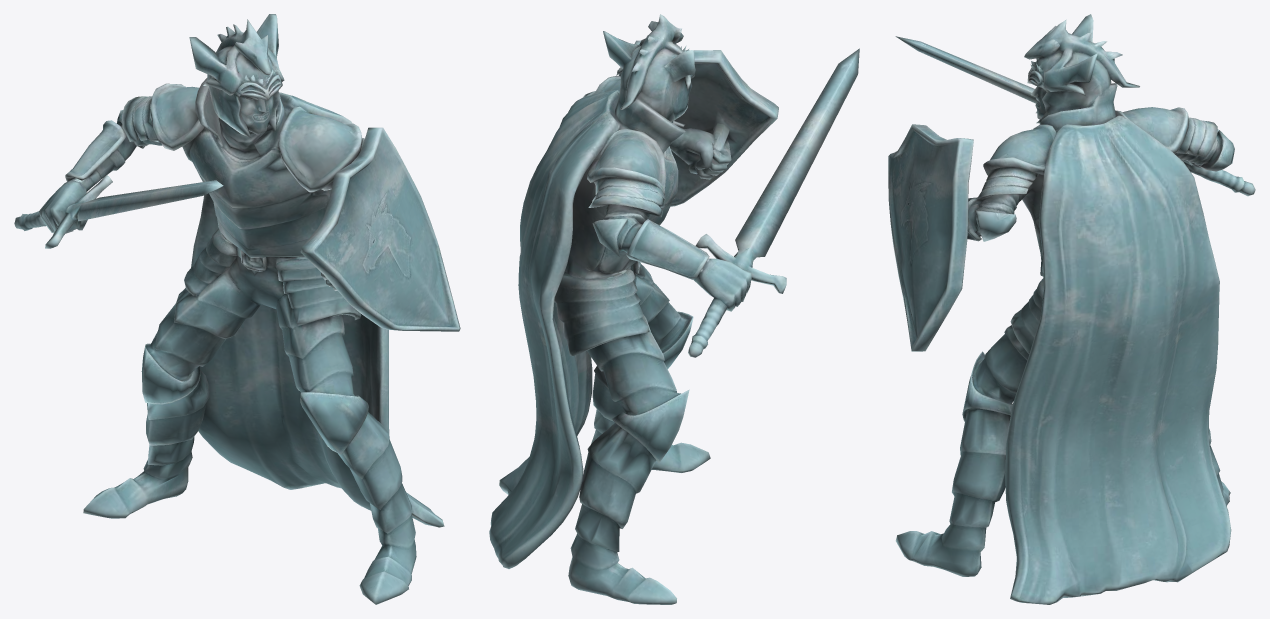
The model's file is MZ4250 - Phantom Warrior.glb.
3 views of the same model, side by side, from view 1: azimuth 30°, elevation 25°; view 2: azimuth 150°, elevation 25°; view 3: azimuth 270°, elevation 25° (orthographic). The views are drawn at different scales.
Parts seen in each view (by area): view 1: PhantomWarrior; view 2: PhantomWarrior; view 3: PhantomWarrior.
Part boxes in pixels (x1,y1,x2,y2): PhantomWarrior: [14, 14, 460, 604]; PhantomWarrior: [489, 14, 859, 604]; PhantomWarrior: [888, 14, 1255, 604].
Bounding box in the file's own units: 0.6247 × 0.9514 × 0.6172.
1 material, 1 textured.
